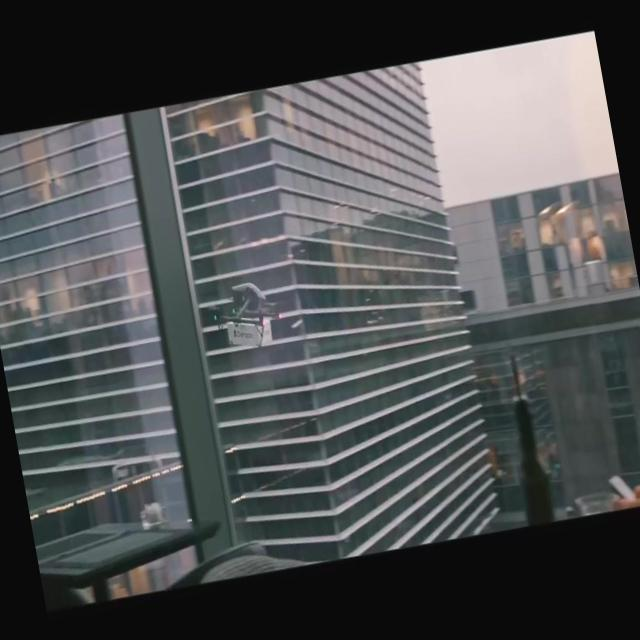drone: (206, 276, 294, 358)
